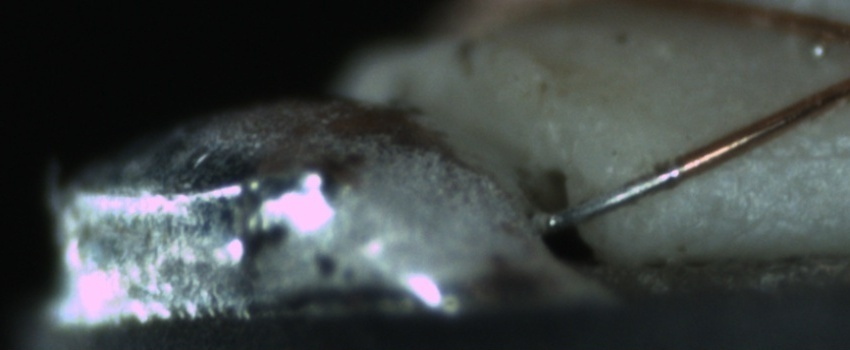DL: (755, 122, 850, 185)
TS: (549, 160, 688, 229)
